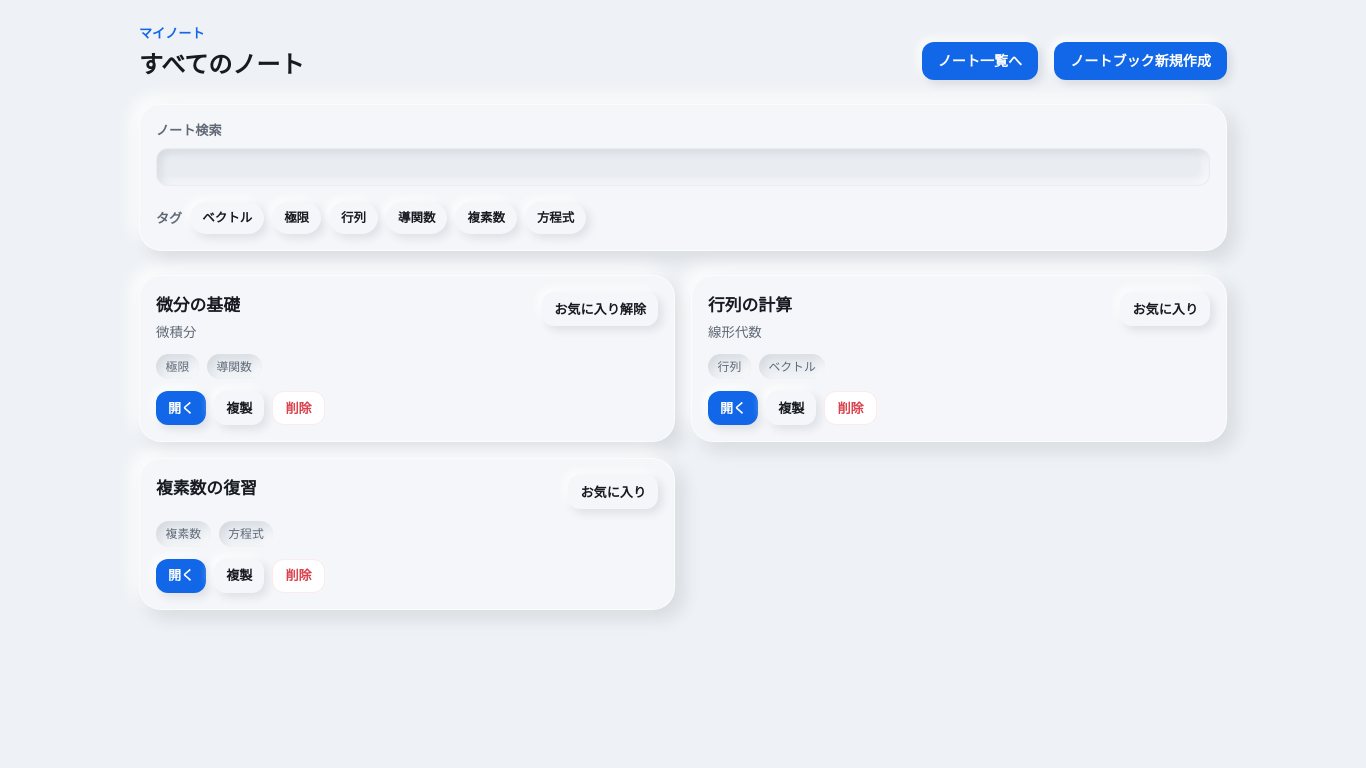
HomePage › HOMEでは確認後に選んだノートだけを削除する
The width and height of the screenshot is (1366, 768).
Click the button with test id "delete-note" below "微積分" at (299, 408), box x1=272 y1=392 x2=325 y2=426
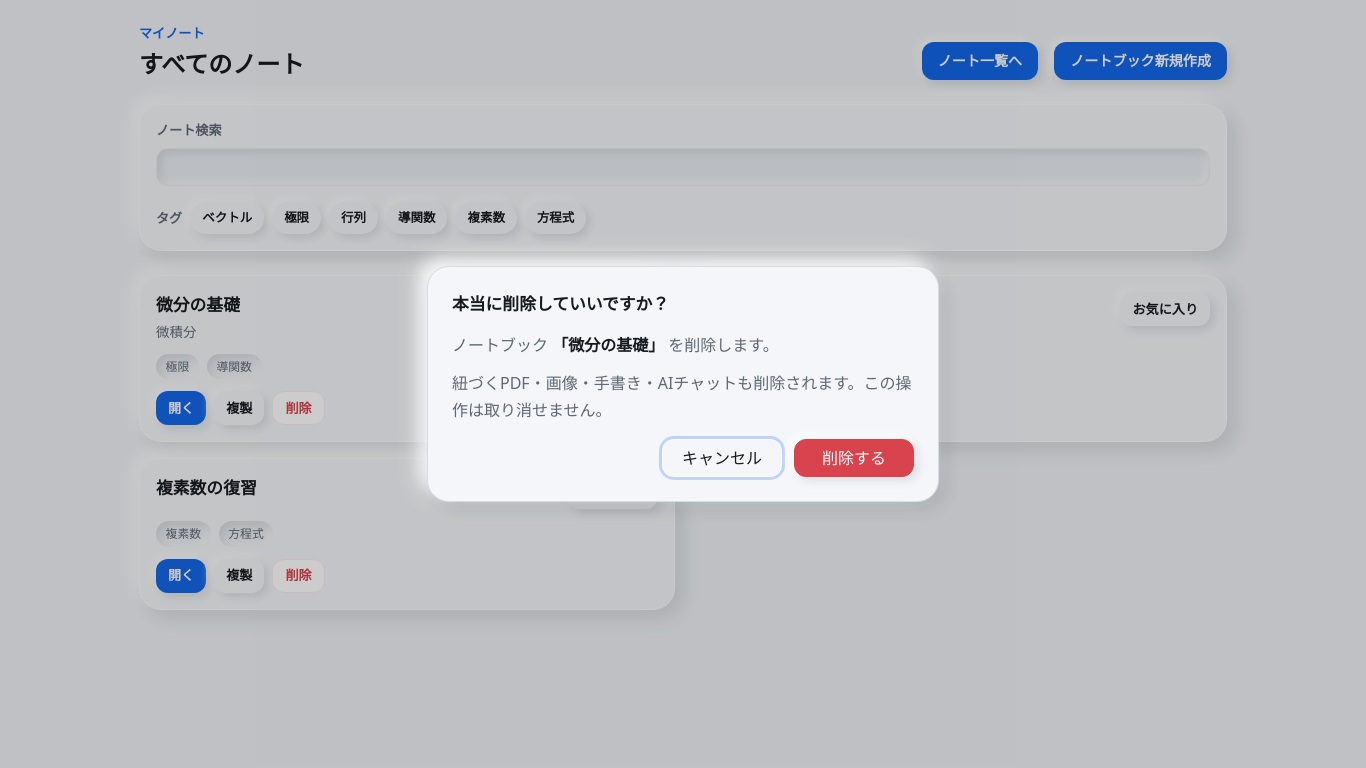
Expected: the text "微分の基礎" is shown, x1=156 y1=292 x2=240 y2=318
Result: the dialog is shown
Click the button with test id "cancel-note-delete" at (722, 458), box x1=662 y1=439 x2=782 y2=477
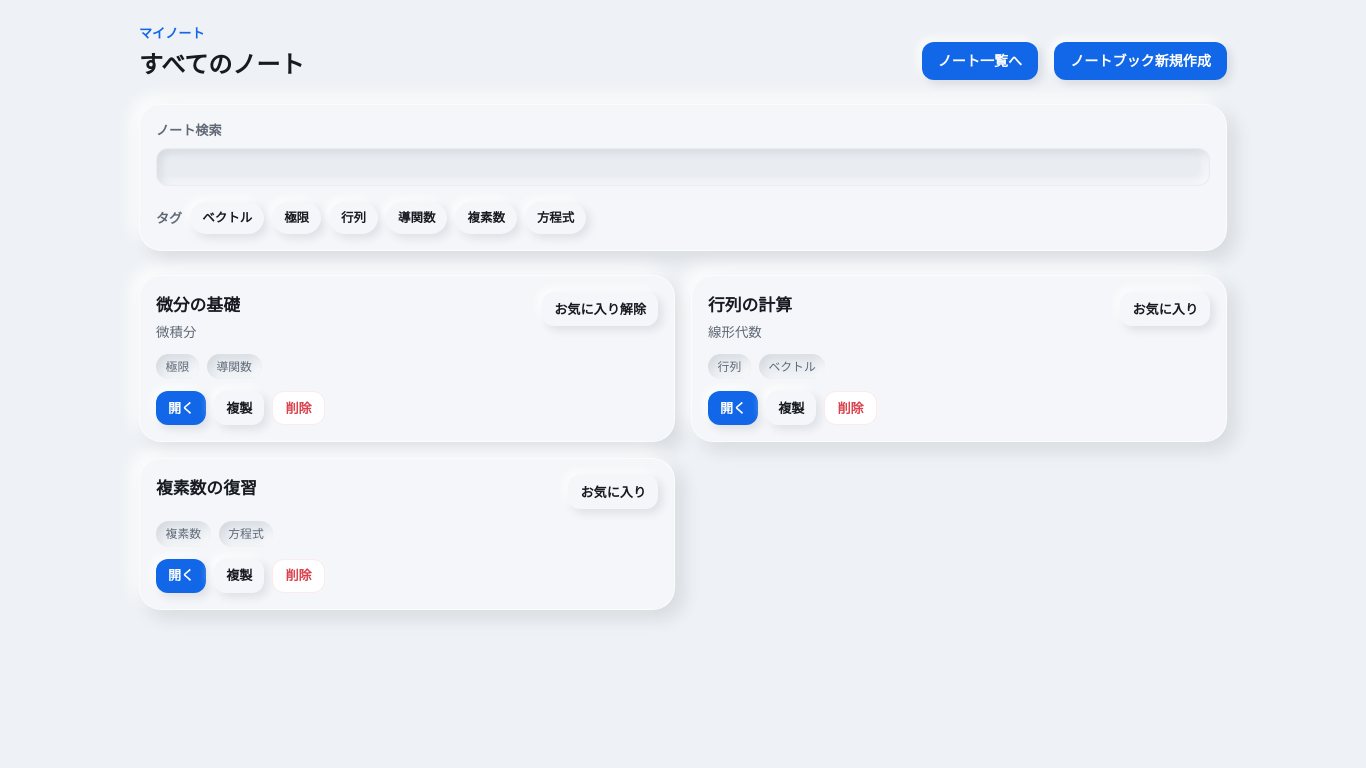
Expected: the text "微分の基礎" is shown, x1=156 y1=292 x2=240 y2=318
Click the button with test id "delete-note" below "微積分" at (299, 408), box x1=272 y1=392 x2=325 y2=426
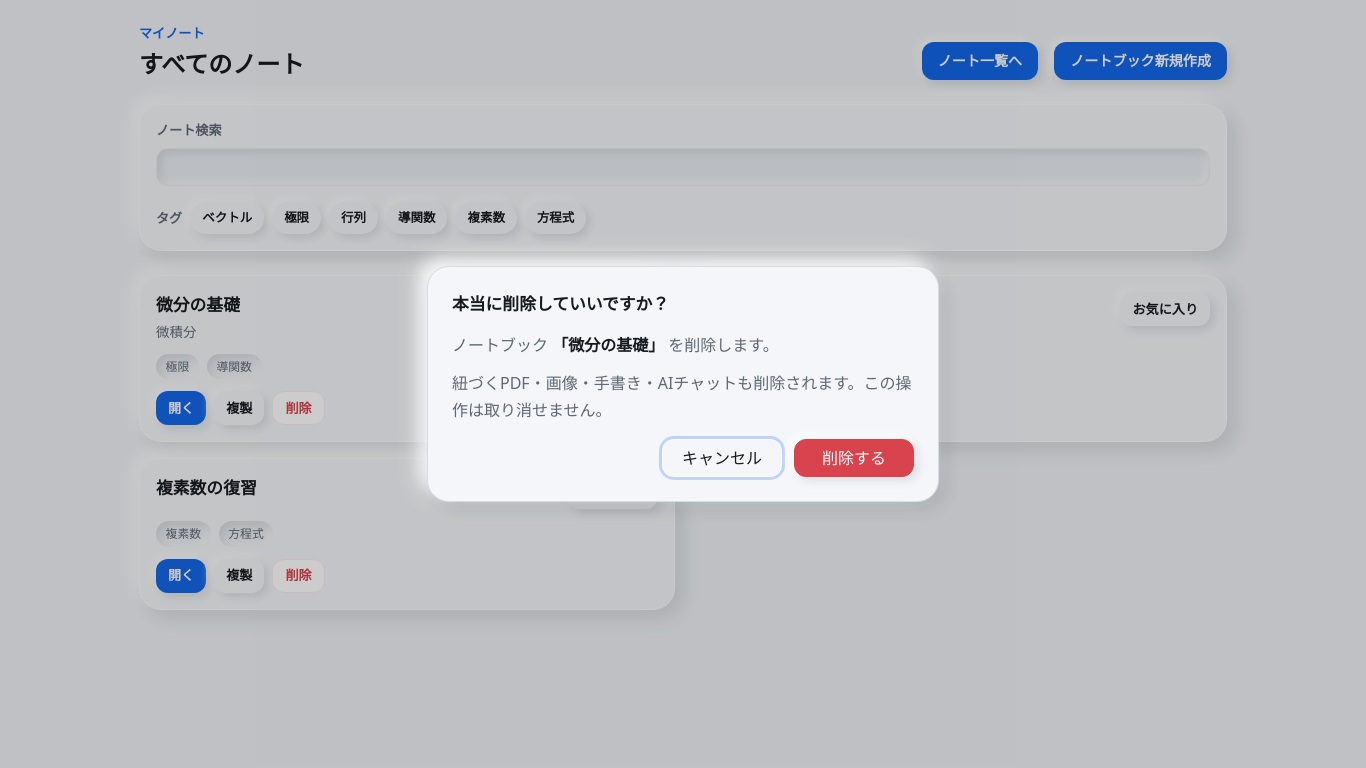
Click the button with test id "confirm-note-delete" at (854, 458), box x1=794 y1=439 x2=914 y2=477
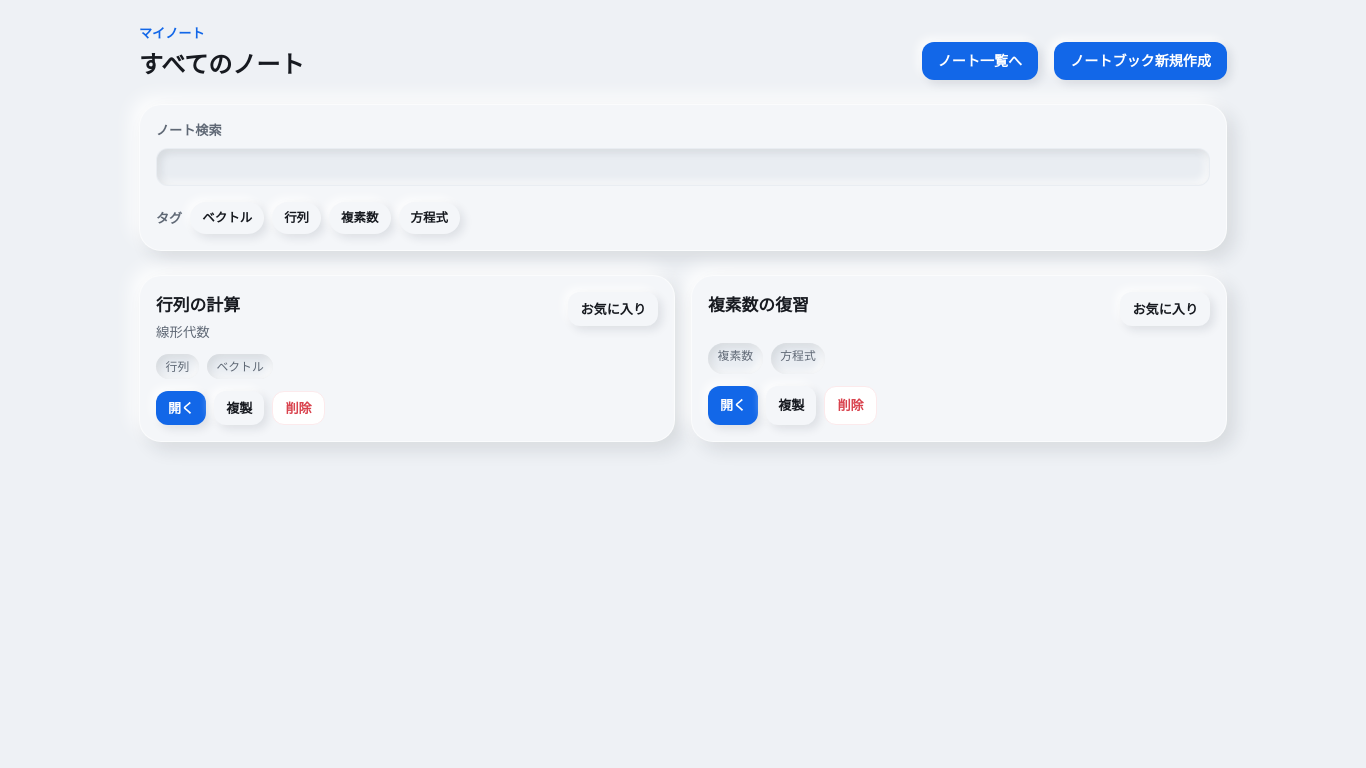
Expected: the text "行列の計算" is shown, x1=156 y1=292 x2=240 y2=318
Result: the text "微分の基礎" is gone
